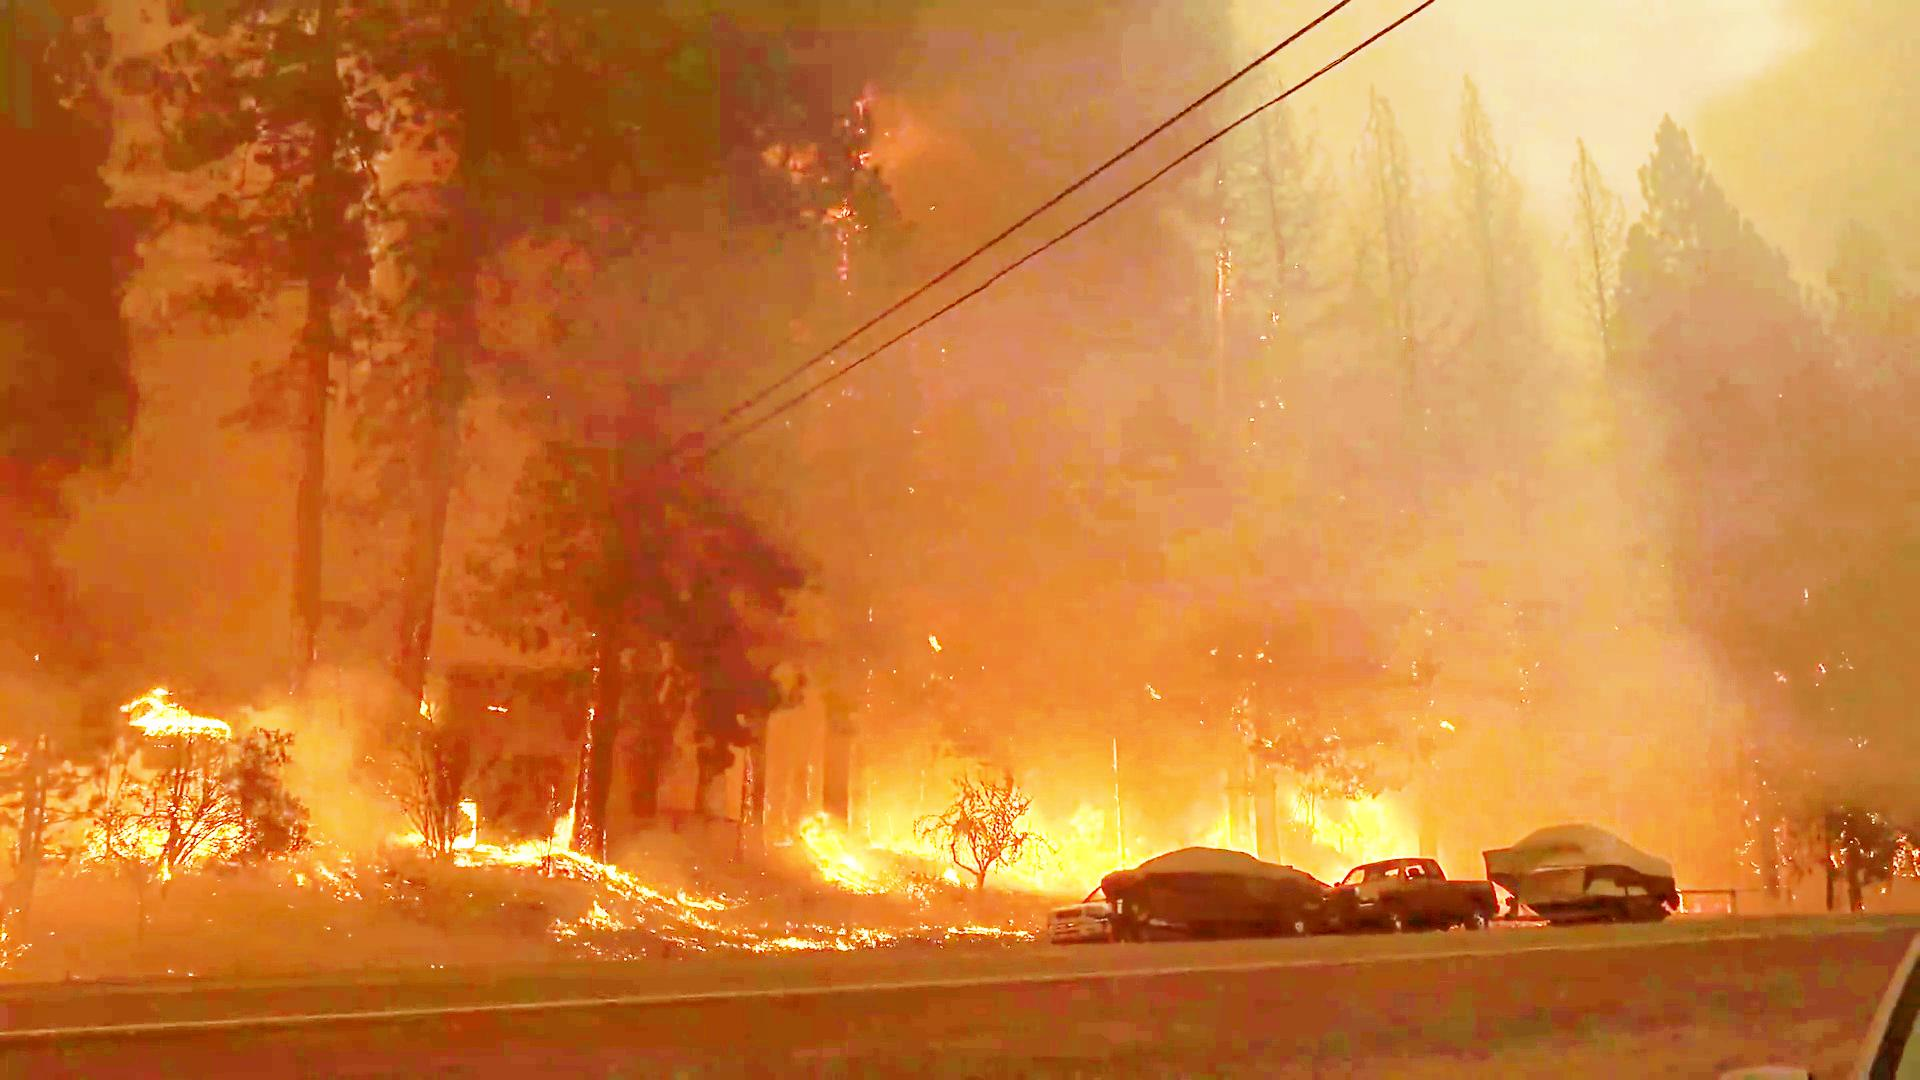fire: (969, 813, 1116, 904), (798, 793, 885, 908), (133, 683, 245, 744), (1299, 803, 1396, 862)
smoke: (1015, 273, 1568, 526)
